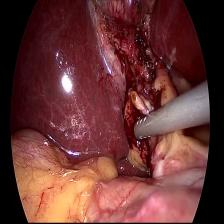Irrigator: (132, 108, 160, 144)
